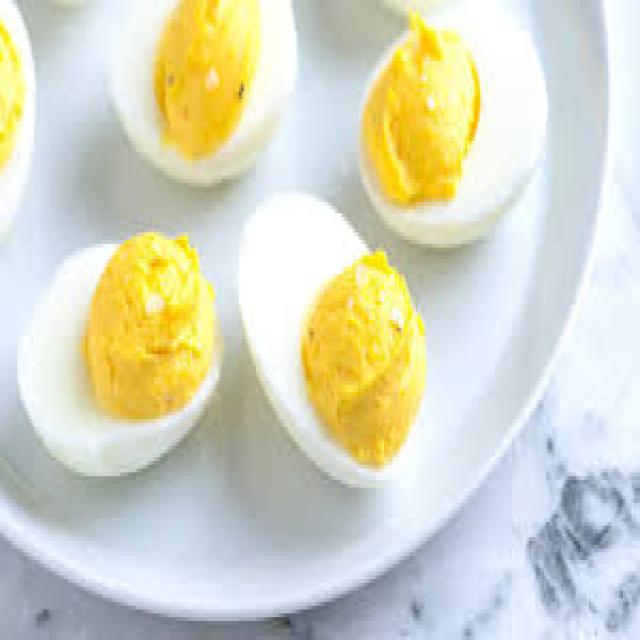boiled egg: (0, 0, 490, 484)
